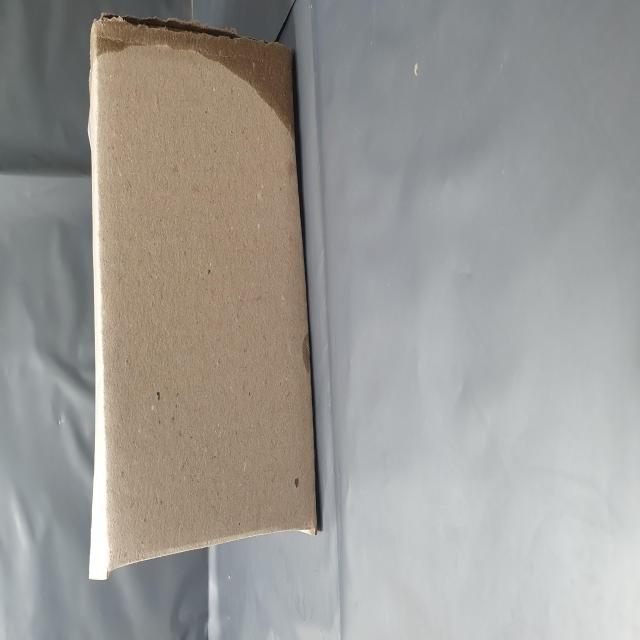wet: (294, 169, 360, 529)
